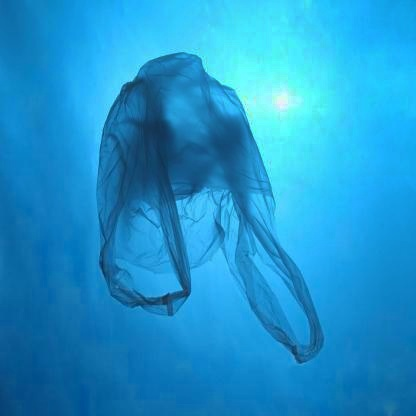pbag: (83, 48, 331, 365)
